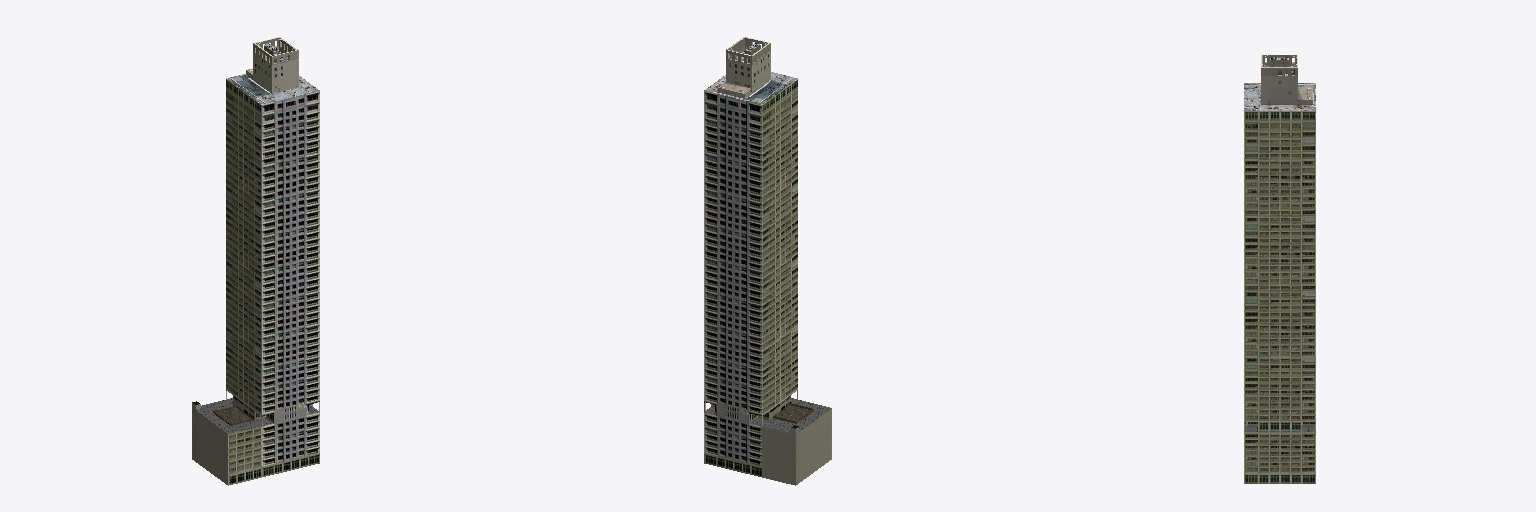
3 renders of one model, left to right at view 1: azimuth 30°, elevation 25°; view 2: azimuth 150°, elevation 25°; view 3: azimuth 270°, elevation 25°, orthographic.
Visible parts, largest first — view 1: Mesh1; view 2: Mesh1; view 3: Mesh1.
Boxes of the visible parts, x1=… form: Mesh1: x1=192, y1=37, x2=319, y2=485; Mesh1: x1=704, y1=37, x2=831, y2=485; Mesh1: x1=1244, y1=55, x2=1315, y2=483.
Size of the model in its own units: 1657 by 7095 by 1129.
Materials: 31 (27 with a texture image).